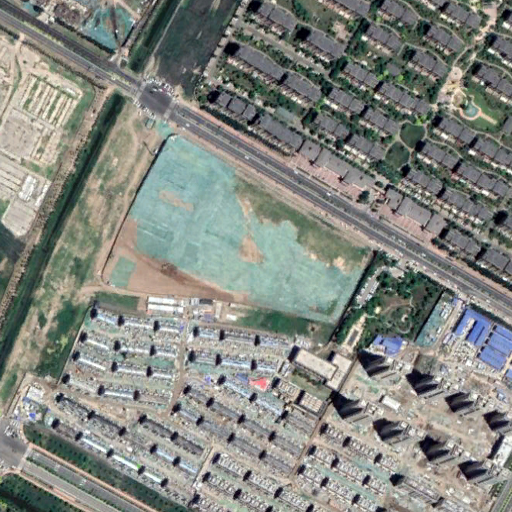cw: (100, 136, 372, 328)
